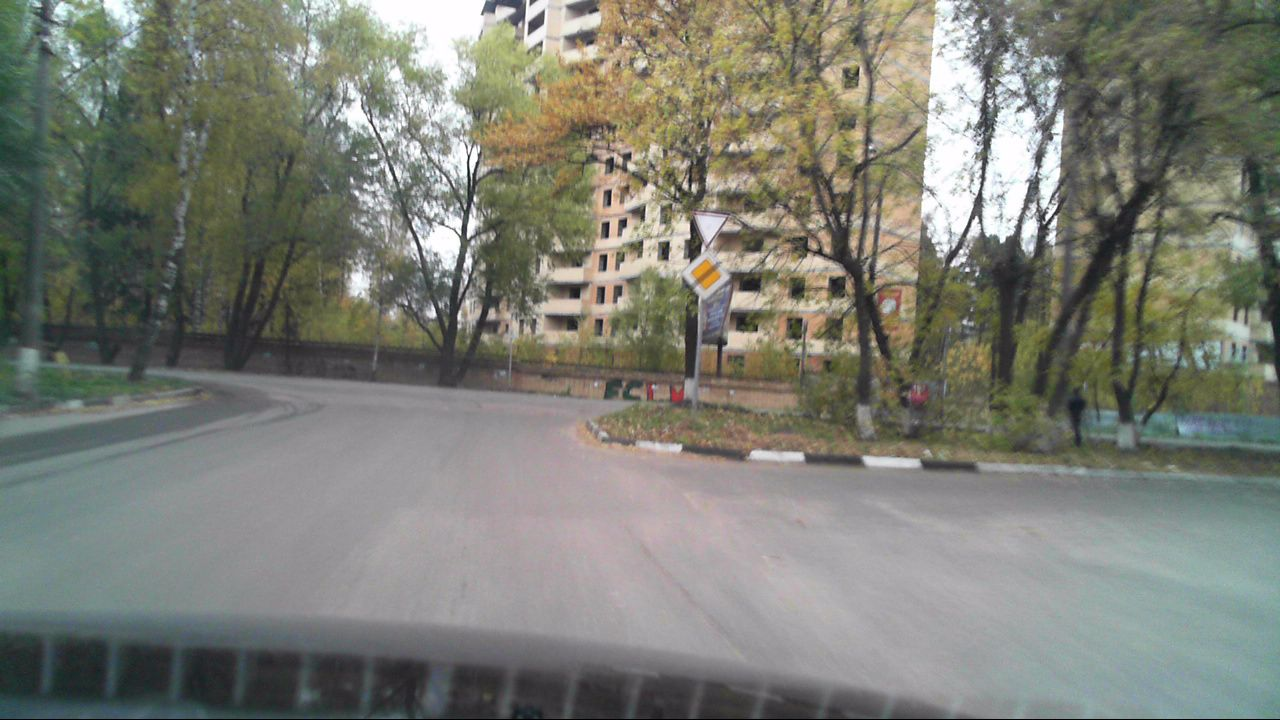main road: (681, 252, 728, 300)
